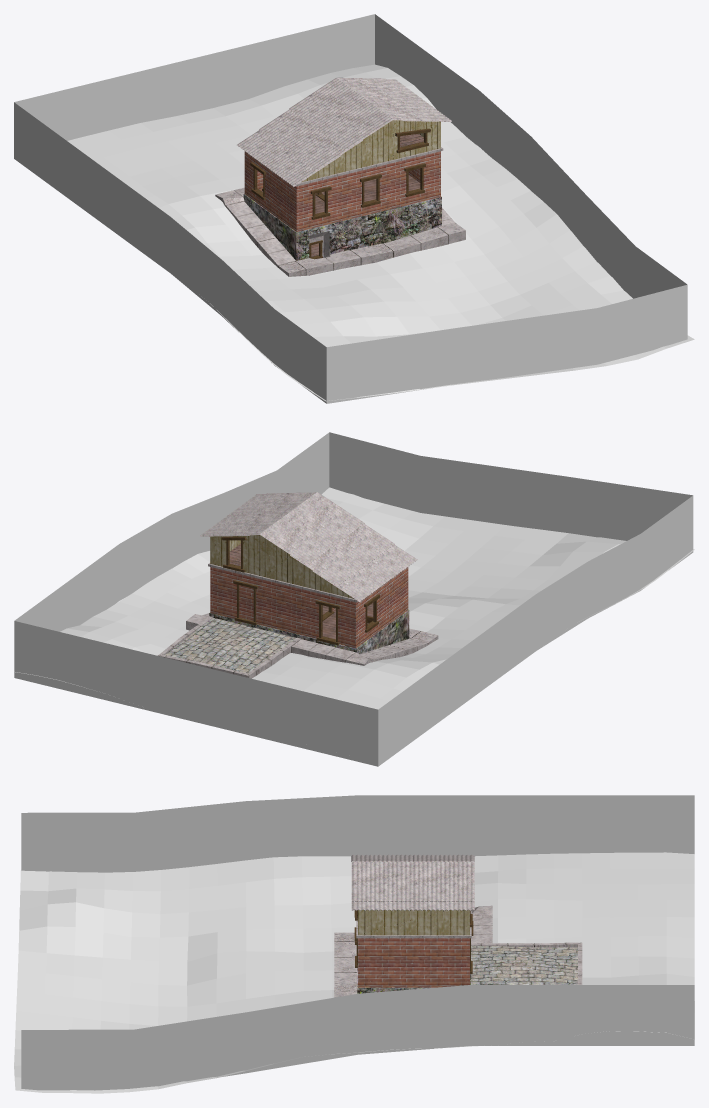
Rendered from Garden.fbx.
3 renders of one model, top to bottom at view 1: azimuth 30°, elevation 25°; view 2: azimuth 150°, elevation 25°; view 3: azimuth 270°, elevation 25°, orthographic. The views are drawn at different scales.
Visible parts, largest first — view 1: Wall, Garden, House, RoofTile, DoorFrame, Room1; view 2: Wall, Garden, House, RoofTile, DoorFrame; view 3: Wall, Garden, House, RoofTile.
Part boxes in pixels (left/top/right/bottom): Wall: left=14, top=14, right=687, bottom=403; Garden: left=67, top=64, right=694, bottom=401; House: left=215, top=120, right=465, bottom=276; RoofTile: left=237, top=77, right=451, bottom=186; DoorFrame: left=250, top=128, right=430, bottom=259; Room1: left=257, top=168, right=420, bottom=213; Wall: left=14, top=432, right=693, bottom=766; Garden: left=14, top=487, right=694, bottom=709; House: left=158, top=535, right=438, bottom=678; RoofTile: left=200, top=492, right=417, bottom=601; DoorFrame: left=222, top=536, right=379, bottom=645; Wall: left=21, top=795, right=694, bottom=1090; Garden: left=14, top=852, right=694, bottom=1093; House: left=334, top=861, right=582, bottom=997; RoofTile: left=351, top=854, right=474, bottom=910.
Size of what is drawn, in the model's own units: 2038 by 807 by 3035.
